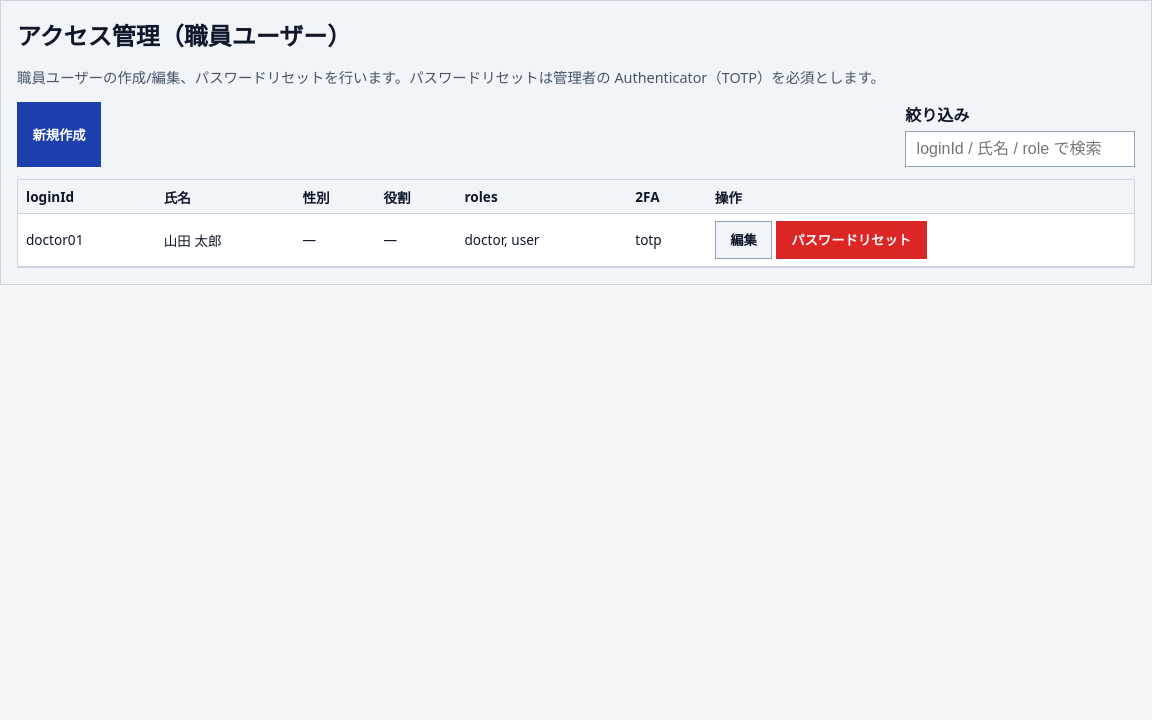
Test: AccessManagementPanel password reset › 一時パスワード未入力では送信しない
Click the button "パスワードリセット".
click(851, 240)  # box [776,220,926,259]
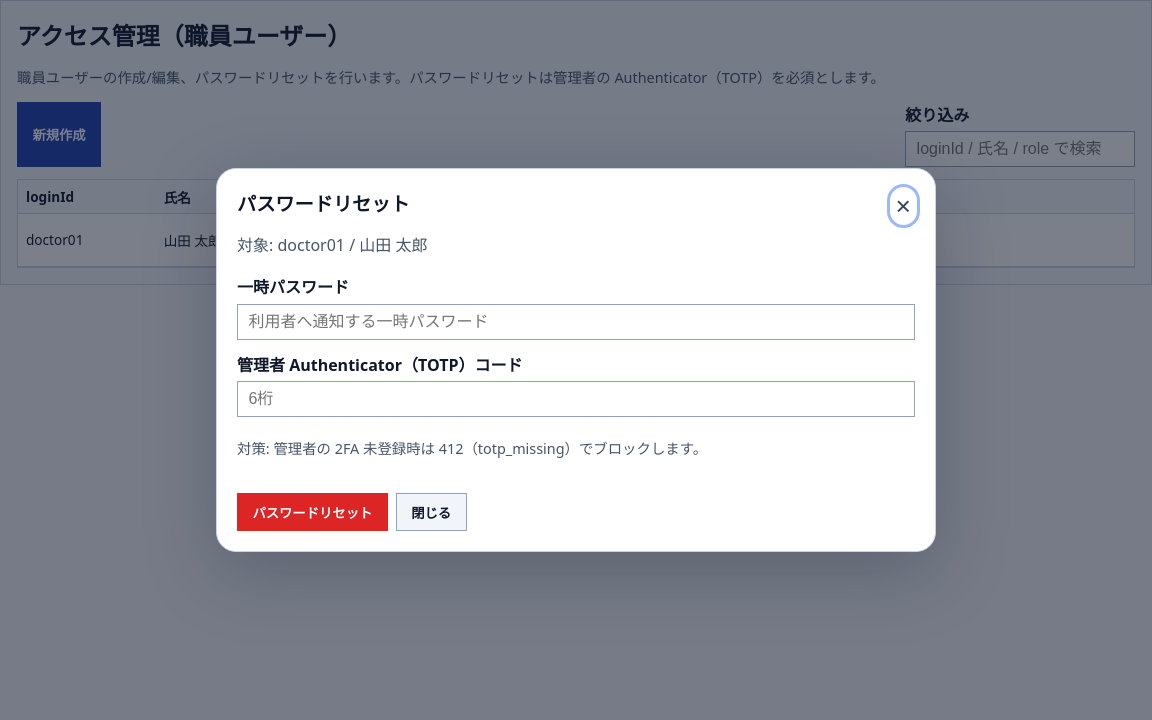
Type "123456" into the field labelled "管理者 Authenticator（TOTP）コード".
click(576, 399); type("123456")  # box [237,381,915,417]
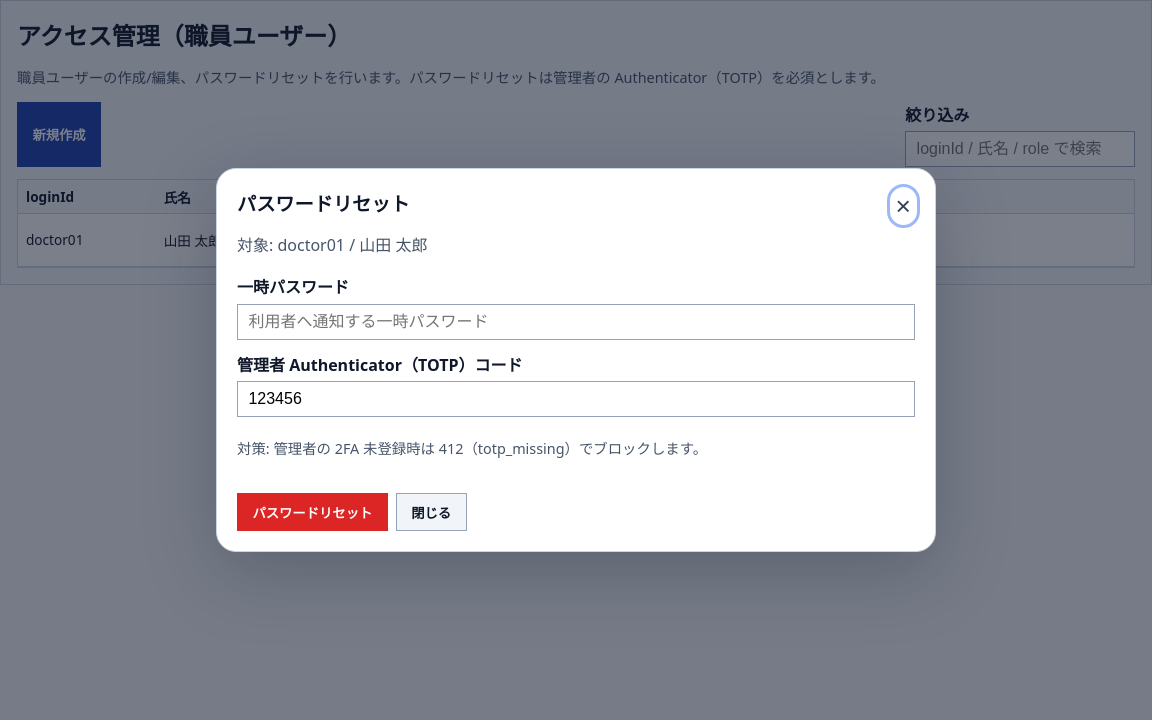
Click the button "パスワードリセット".
click(312, 512)  # box [237,493,388,531]
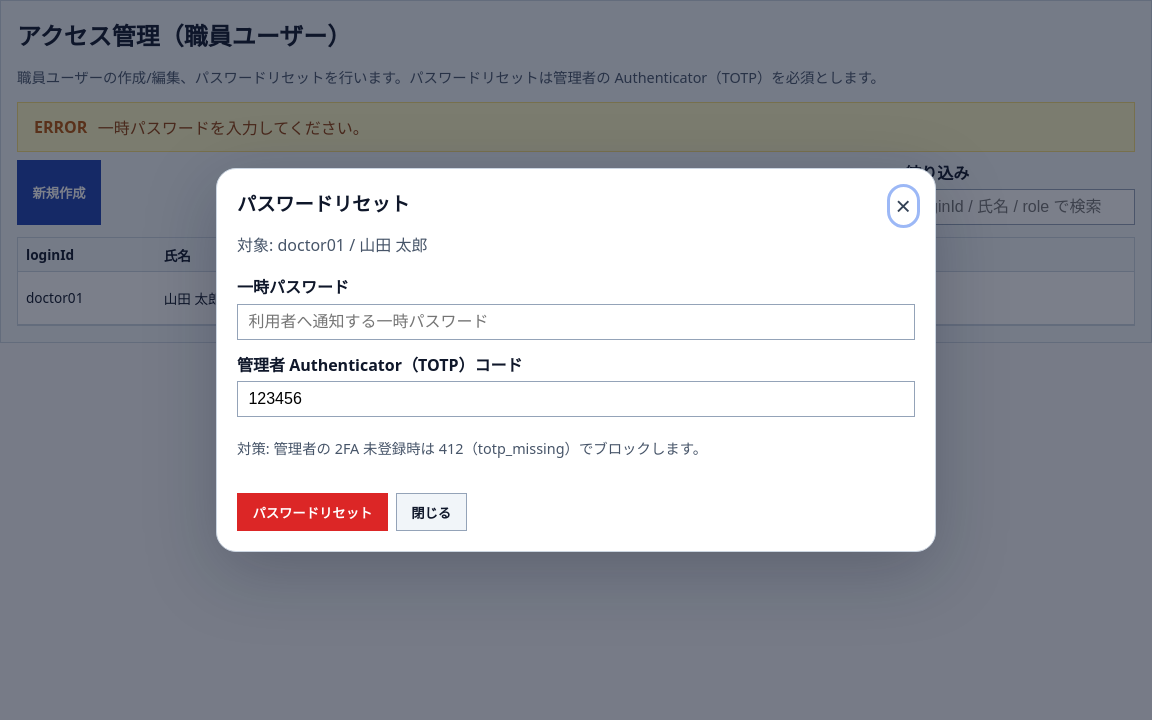
Check: the text "一時パスワードを入力してください。" is shown, box [98,117,369,139]
